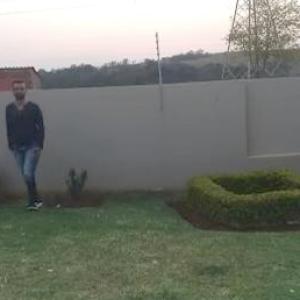follow: (1, 77, 56, 208)
